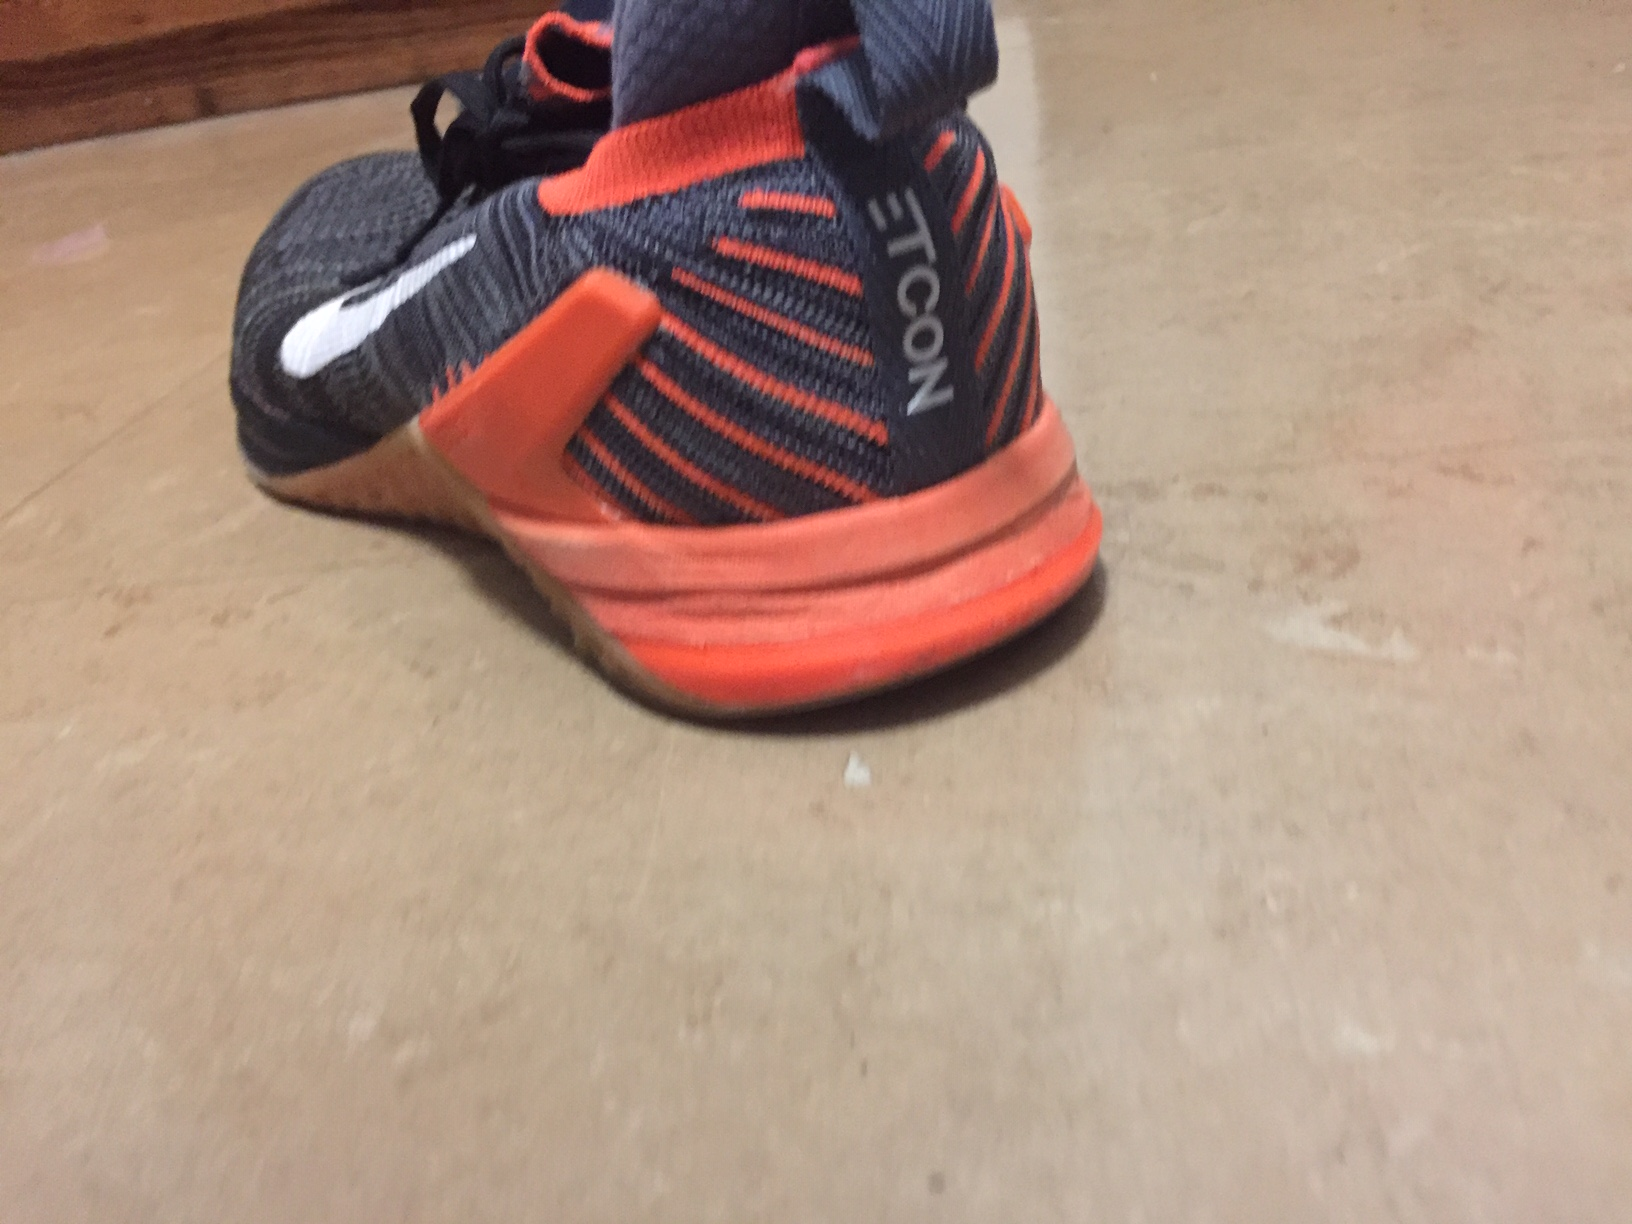car: (218, 1, 1108, 726)
